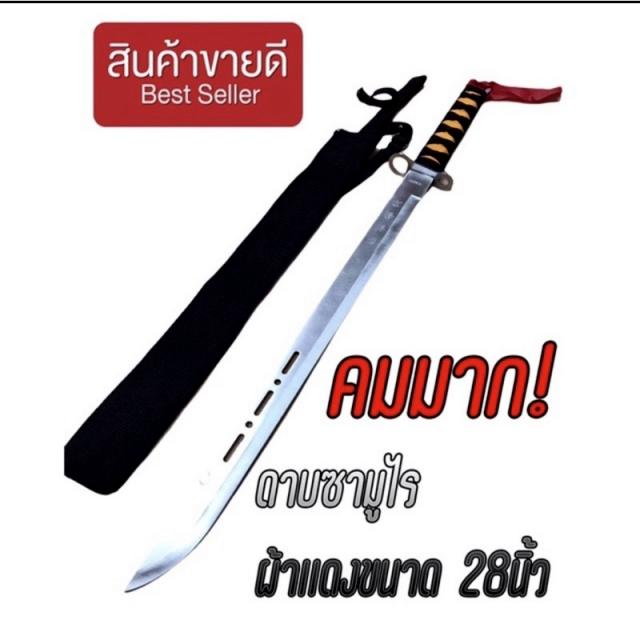long sword: (124, 80, 490, 591)
